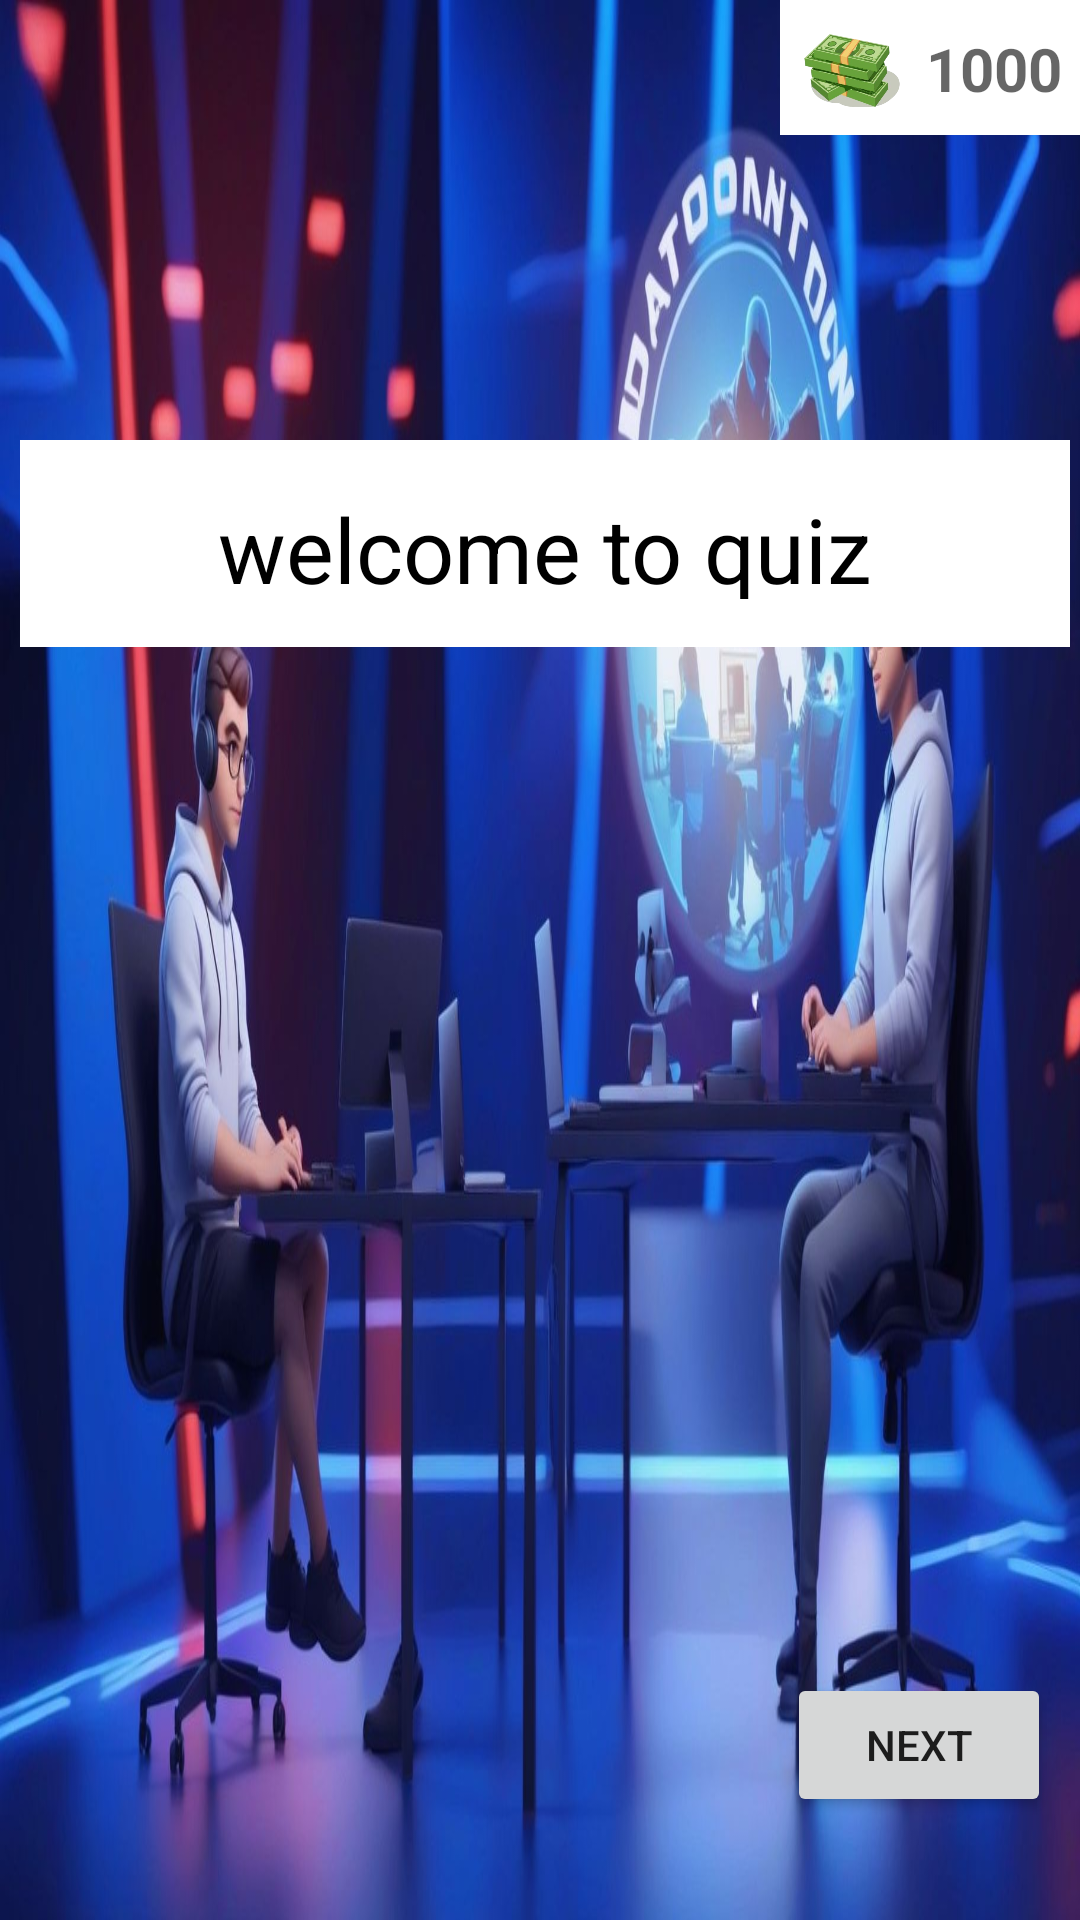

Where to tap for icons on this 1080x1920 app screen, as point (x, y):
cash: point (852, 70)
